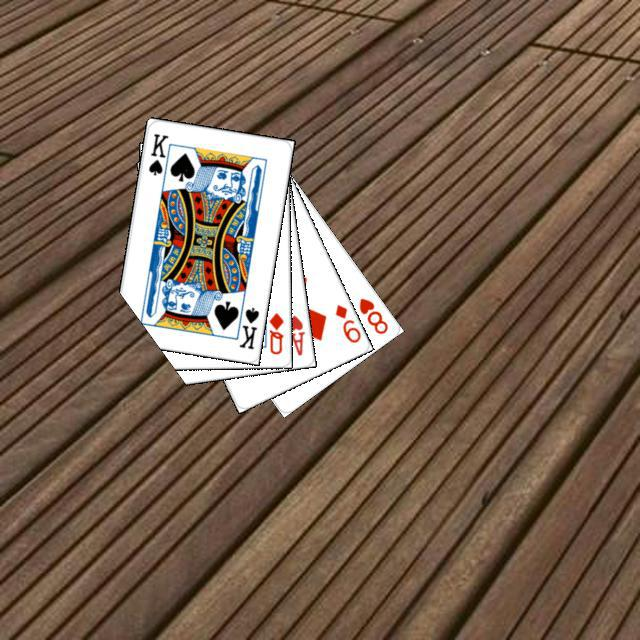8h: (354, 293, 390, 336)
9d: (330, 299, 362, 345)
Ah: (283, 310, 306, 357)
Ks: (143, 129, 172, 182), (234, 302, 261, 351)
Qd: (264, 308, 285, 356)
